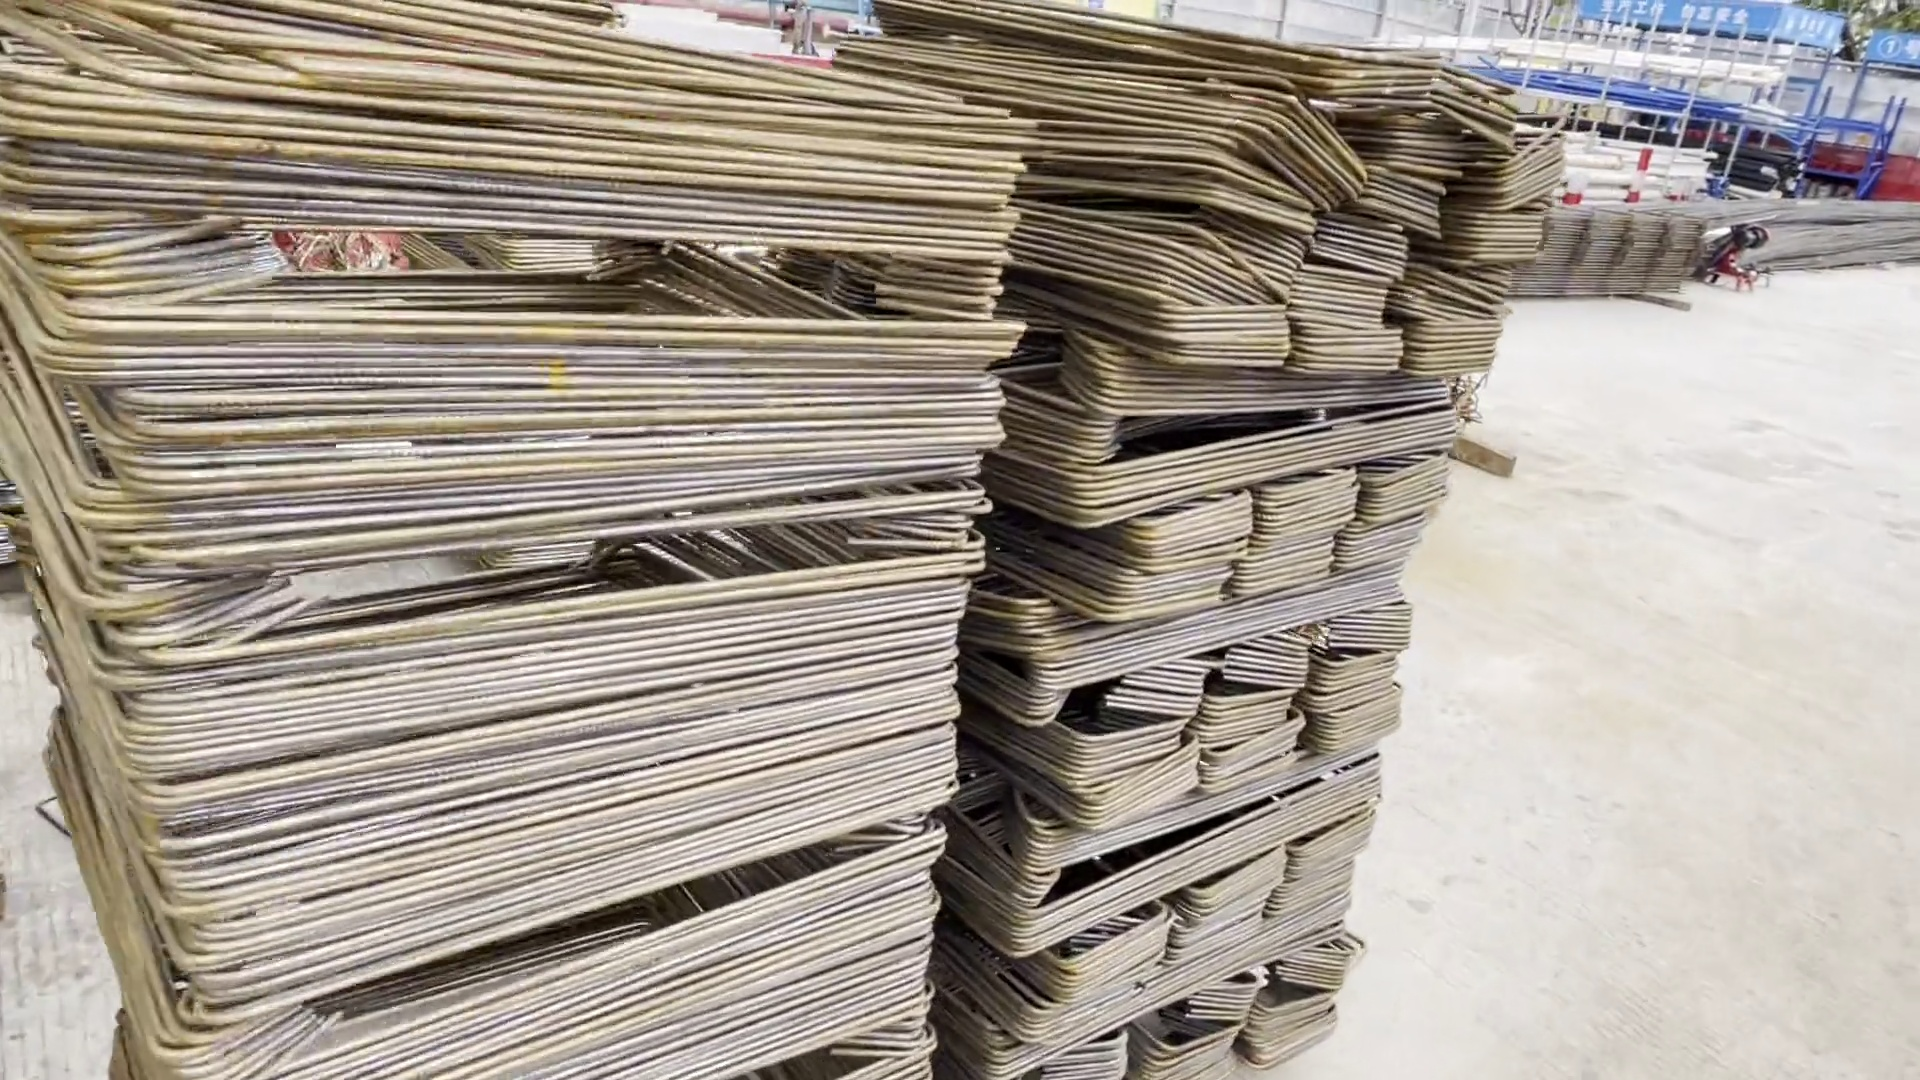rebar: (1700, 191, 1920, 262)
slogan: (1590, 1, 1772, 42)
